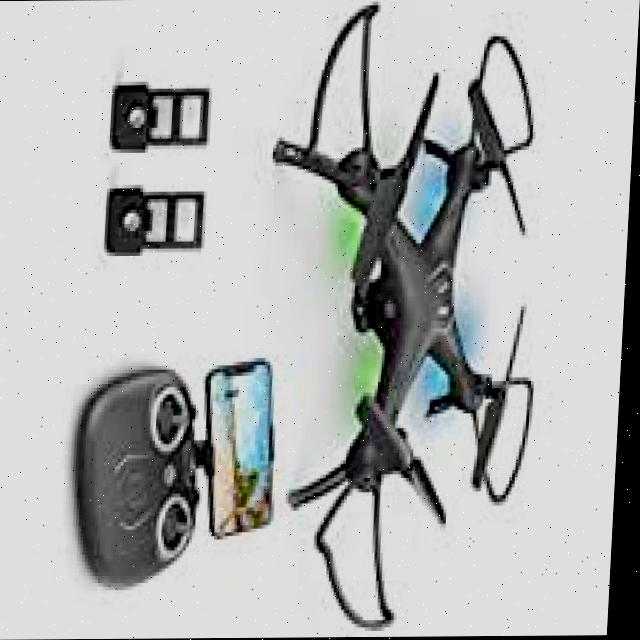drone: (248, 0, 572, 638)
